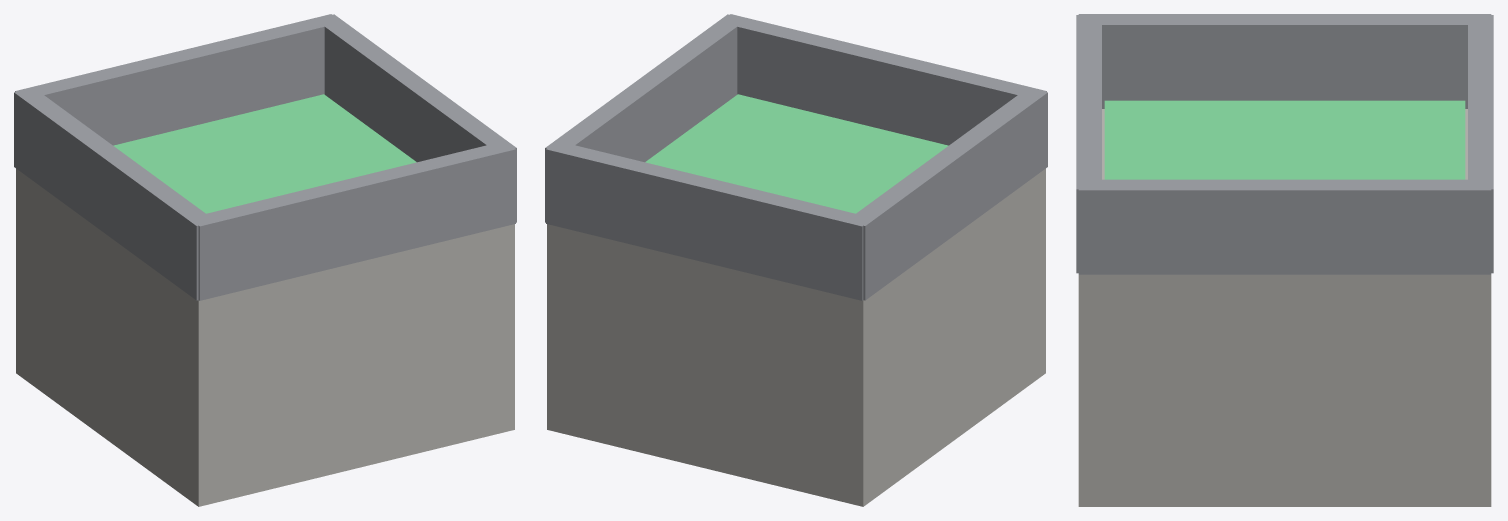
The model's file is build_charger.glb.
3 views of the same model, side by side, from view 1: azimuth 30°, elevation 25°; view 2: azimuth 150°, elevation 25°; view 3: azimuth 270°, elevation 25° (orthographic). The views are drawn at different scales.
Visible parts, largest first — view 1: Baked; view 2: Baked; view 3: Baked.
Part boxes in pixels (left/top/right/bottom): Baked: left=14, top=14, right=516, bottom=506; Baked: left=545, top=14, right=1047, bottom=506; Baked: left=1076, top=14, right=1493, bottom=506.
Size of the model in its own units: 0.81 by 0.68 by 0.81.
